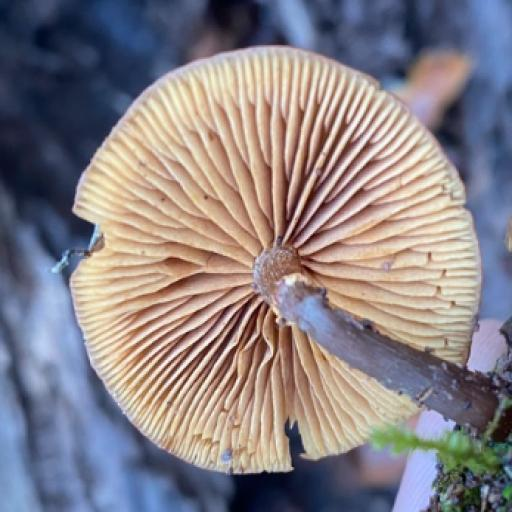mushroom: (54, 39, 494, 483)
